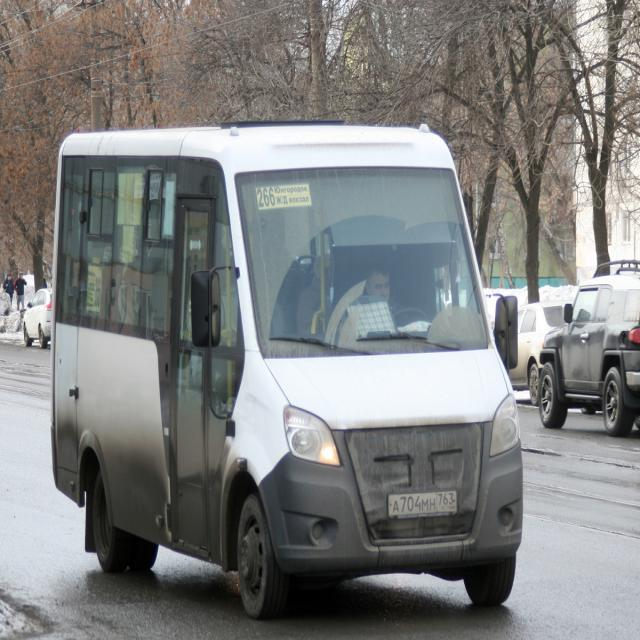number-of-bus: (257, 187, 278, 210)
